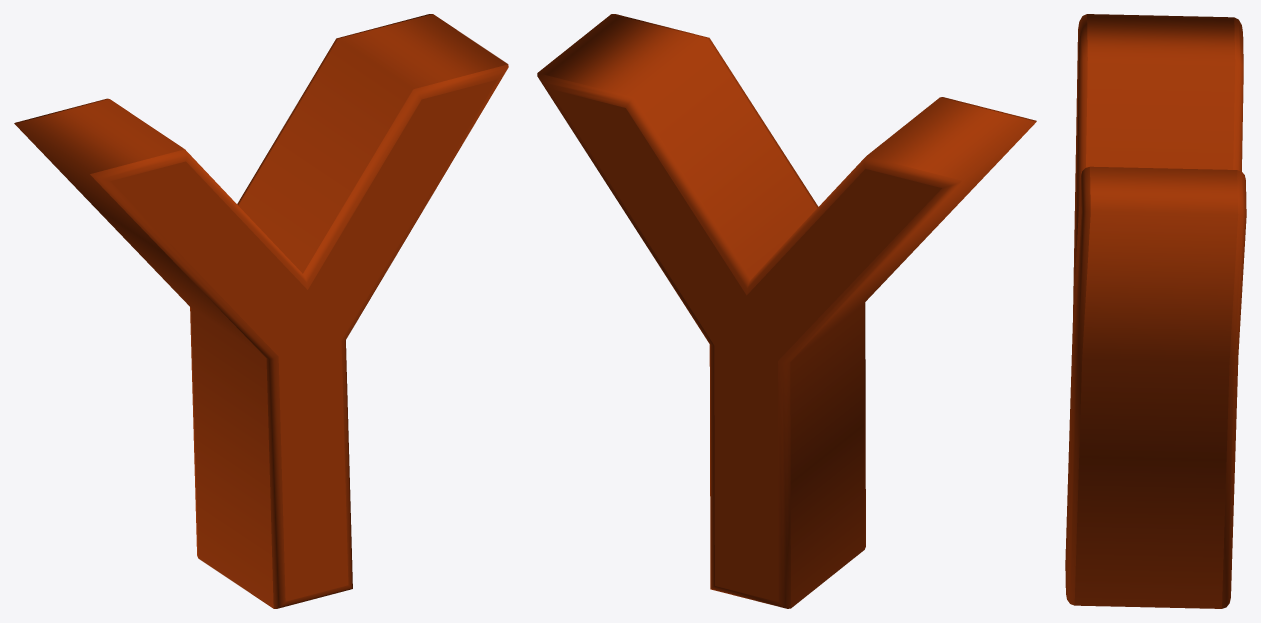
Rendered from letters_Y.obj.
3 views of the same model, side by side, from view 1: azimuth 30°, elevation 25°; view 2: azimuth 150°, elevation 25°; view 3: azimuth 270°, elevation 25° (orthographic).
Parts seen in each view (by area): view 1: Text; view 2: Text; view 3: Text.
Boxes of the visible parts, x1,y1,x2,y2 form: Text: [14, 14, 508, 608]; Text: [537, 14, 1036, 608]; Text: [1065, 14, 1246, 608].
Bounding box in the file's own units: 0.6549 × 0.7165 × 0.2459.
